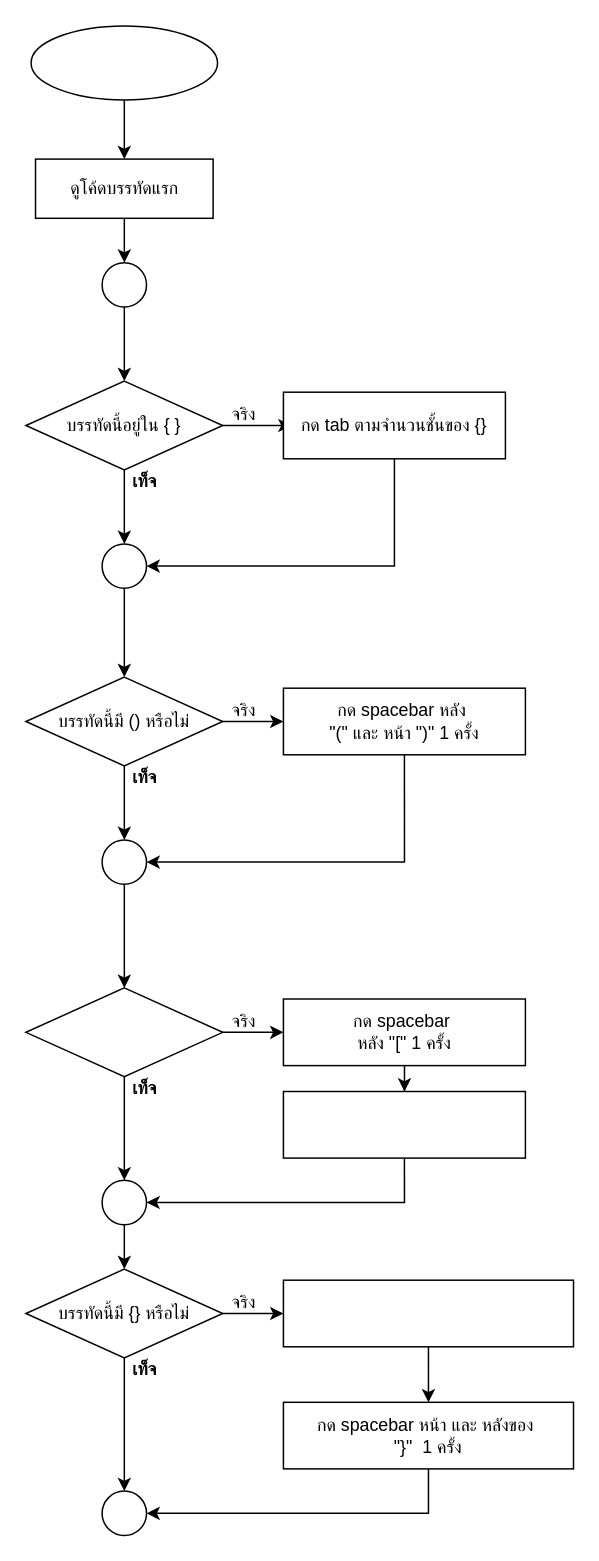
Image size: 599x1561. Some labels were removed from this diagram. Here are the shapes that lost their labels. From the top down, the centre of each, then its label:
point 124,62: เริ่มต้น
point 123,1031: บรรทัดนี้มี [] หรือไม่
point 403,1124: กด spacebar หน้า "]" 1 ครั้ง
point 428,1313: กด spacebar หน้า และ หลังของ "{" 1 ครั้ง
